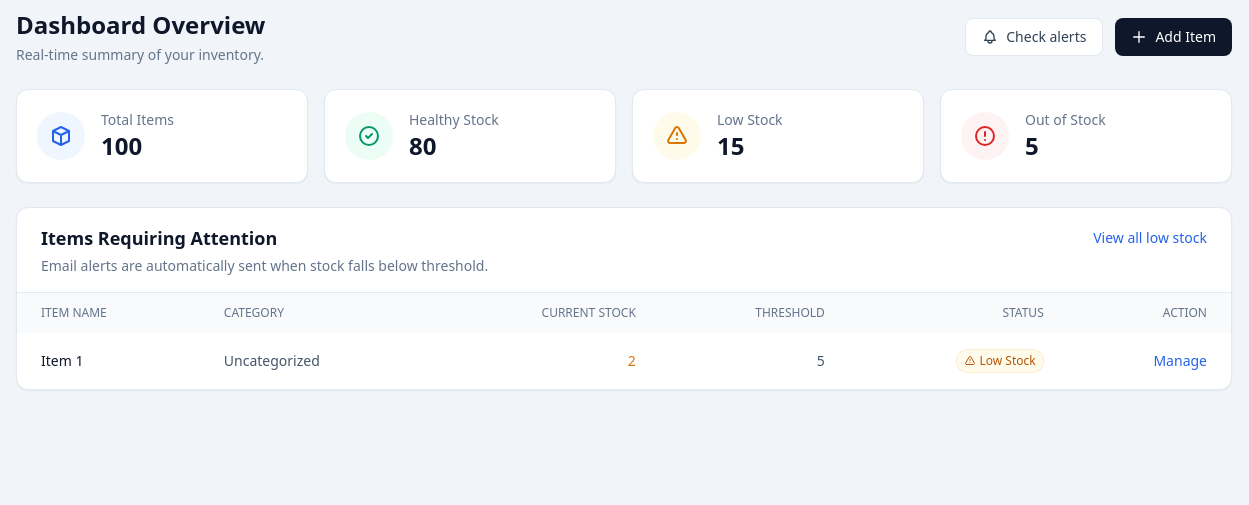
DashboardPage.vue › displays info message when alerts are detected but already sent
The image size is (1249, 505).
Step 1. Click the button "Check alerts" → (1034, 37), box [965,18,1103,56]
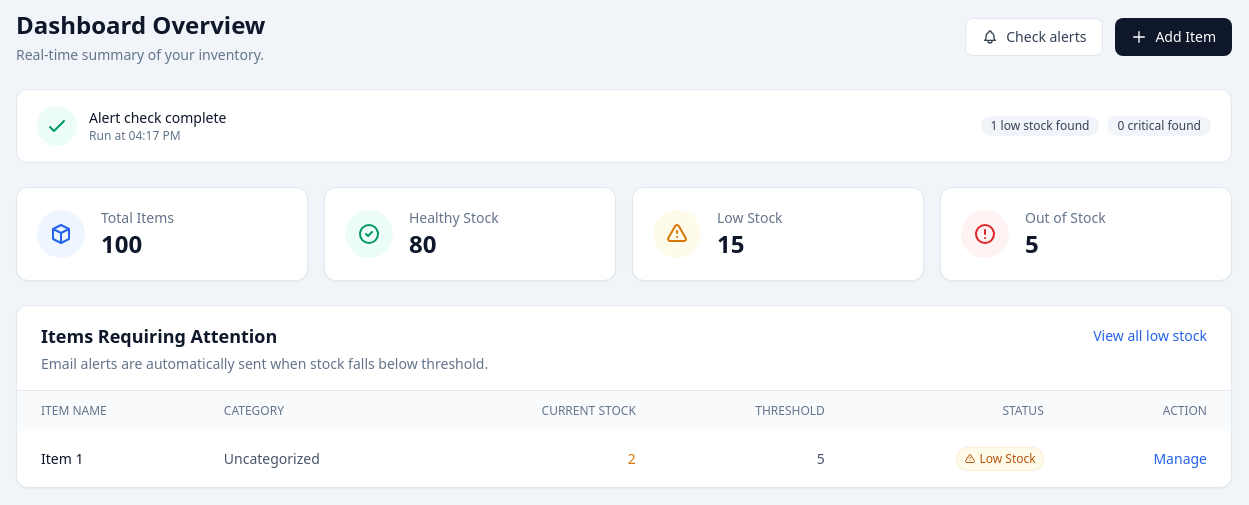
Check: the text "1 low stock found" is shown, box [981,116,1100,136]
